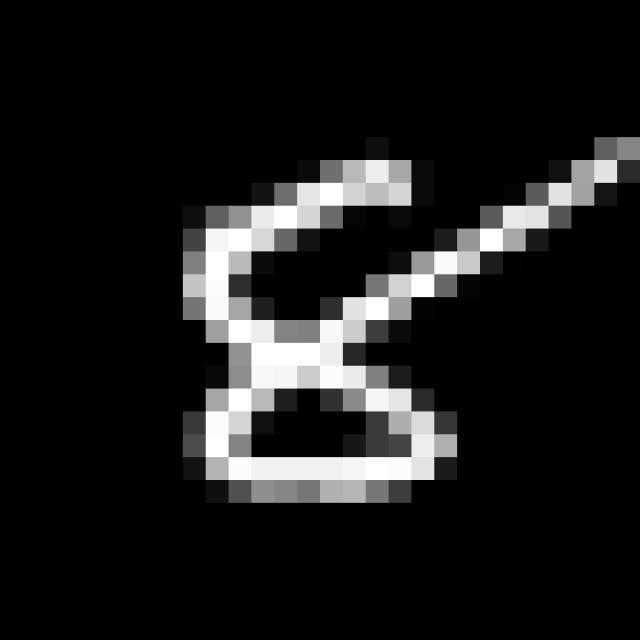eight -8-: (180, 141, 640, 501)
